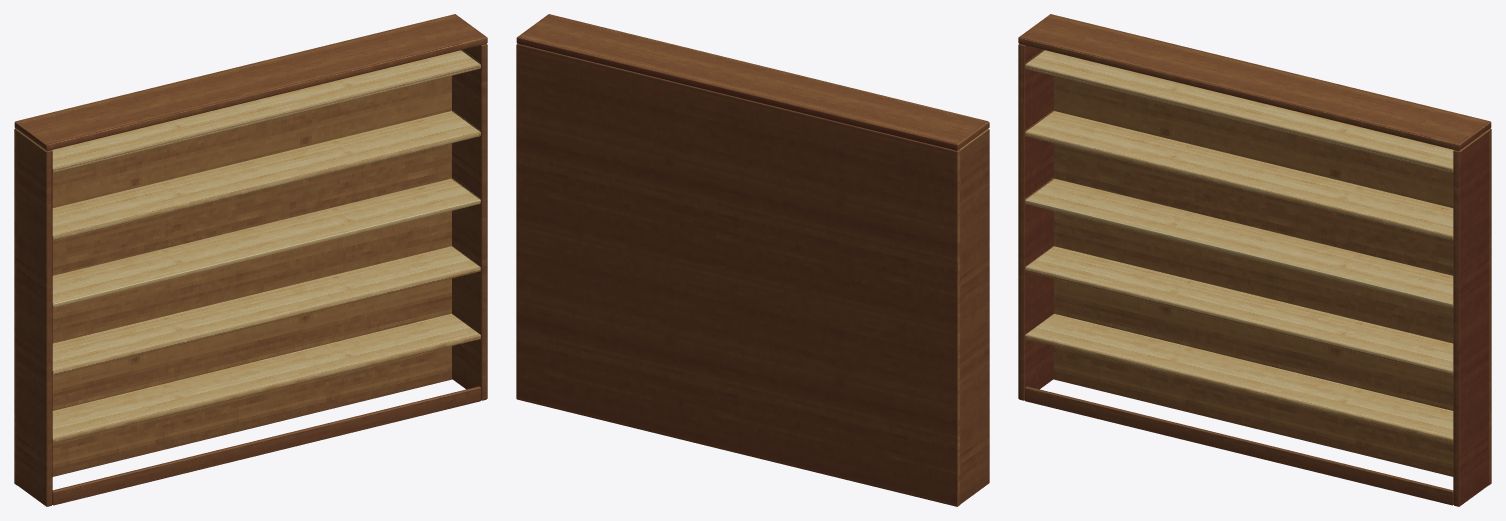
The model's file is open_shelf5.glb.
3 renders of one model, left to right at view 1: azimuth 30°, elevation 25°; view 2: azimuth 150°, elevation 25°; view 3: azimuth 330°, elevation 25°, orthographic.
Visible parts, largest first — view 1: mesh; view 2: mesh; view 3: mesh.
Part boxes in pixels (box(x1,y1,x2,y2)): mesh: box(14, 14, 487, 506); mesh: box(516, 14, 989, 506); mesh: box(1018, 14, 1491, 506).
Size of the model in its own units: 2.6 by 2.04 by 0.3301.
1 material, 1 textured.
